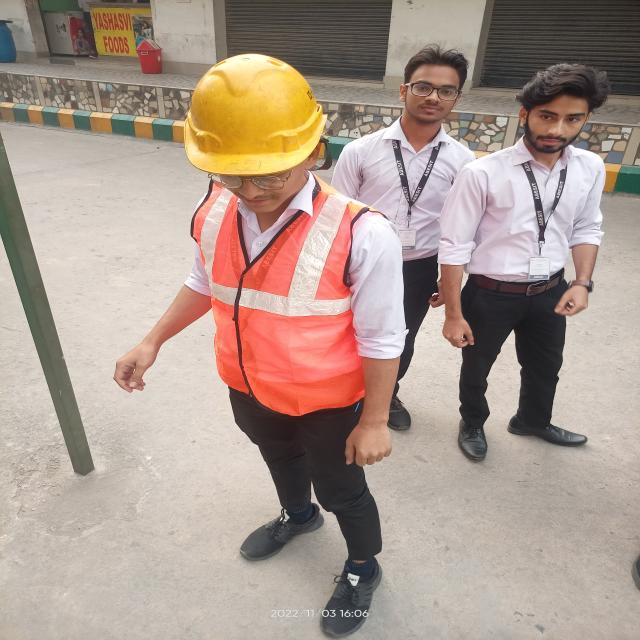safe: (110, 52, 408, 638)
unsafe: (440, 60, 613, 455), (327, 42, 472, 417)
